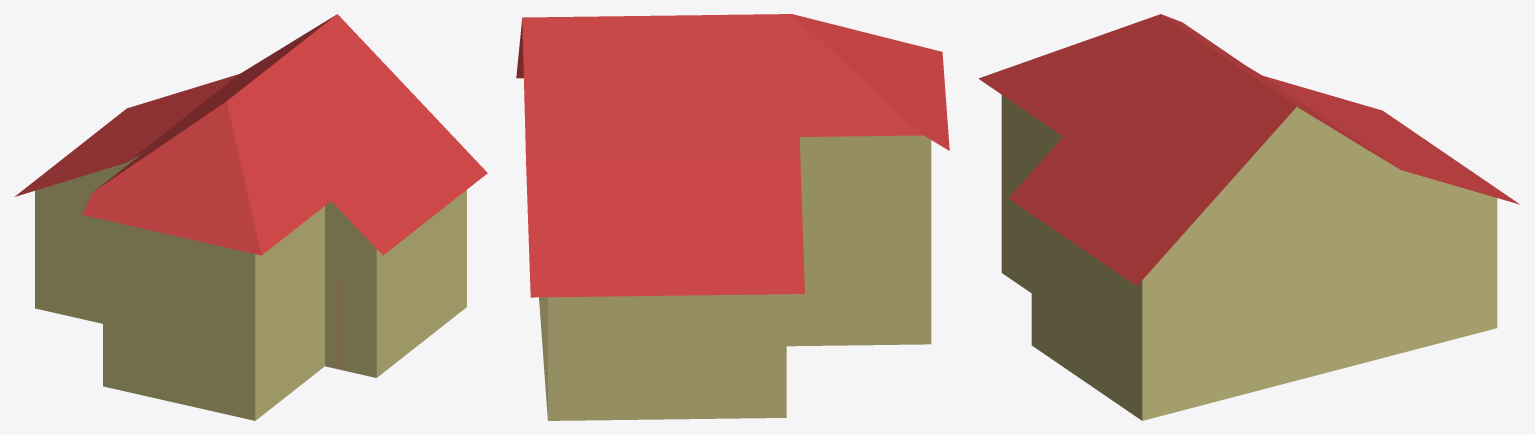
The picture shows the model from 3 angles, left to right: view 1: azimuth 30°, elevation 25°; view 2: azimuth 150°, elevation 25°; view 3: azimuth 270°, elevation 25°; orthographic projection. The views are drawn at different scales.
Size of the model in its own units: 21.97 by 23.95 by 13.74.
